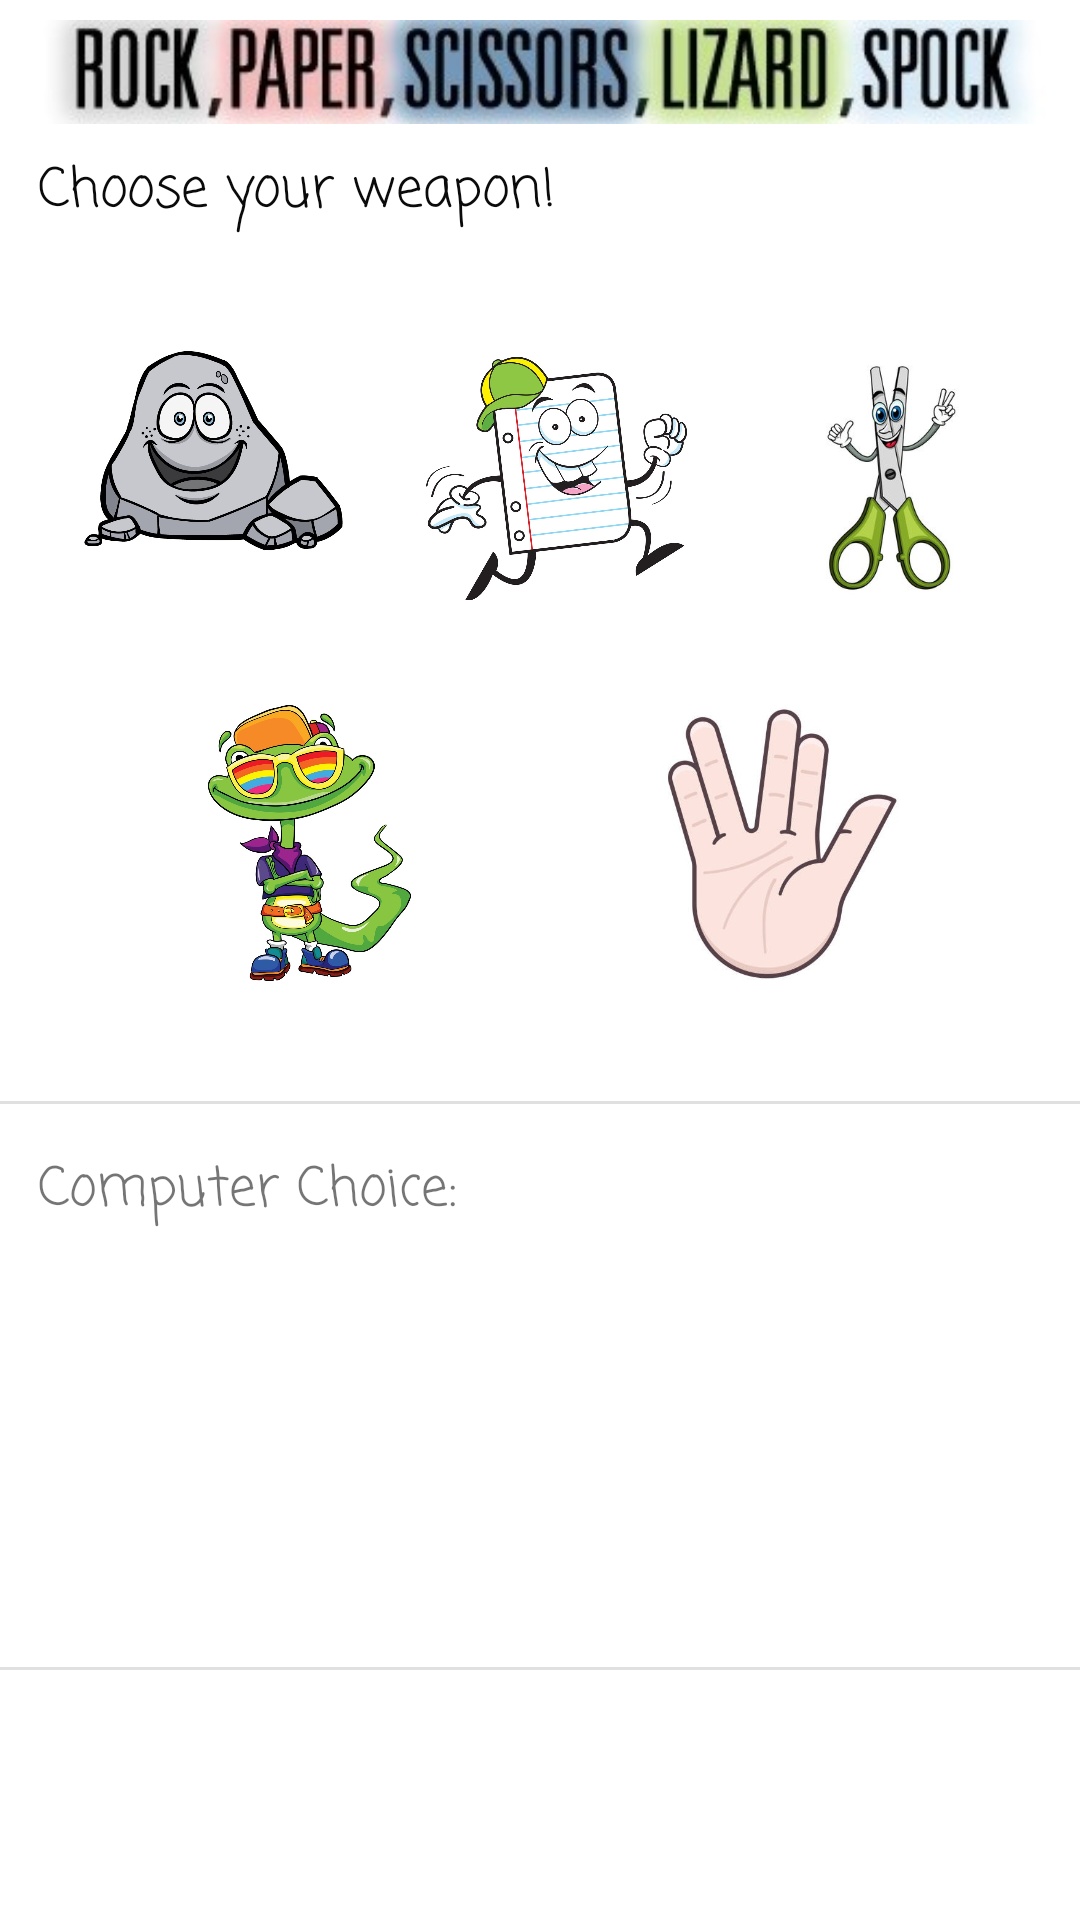

Named icons in this screenshot (1080px×1920px) and their bounding boxes, {"x1": x1, "y1": y1, "x2": x2, "y2": y2}:
Lizard: {"x1": 208, "y1": 705, "x2": 411, "y2": 981}
Paper: {"x1": 426, "y1": 357, "x2": 687, "y2": 600}
Rock: {"x1": 84, "y1": 351, "x2": 343, "y2": 550}
Scissors: {"x1": 827, "y1": 366, "x2": 956, "y2": 590}
Spock: {"x1": 668, "y1": 709, "x2": 897, "y2": 979}
